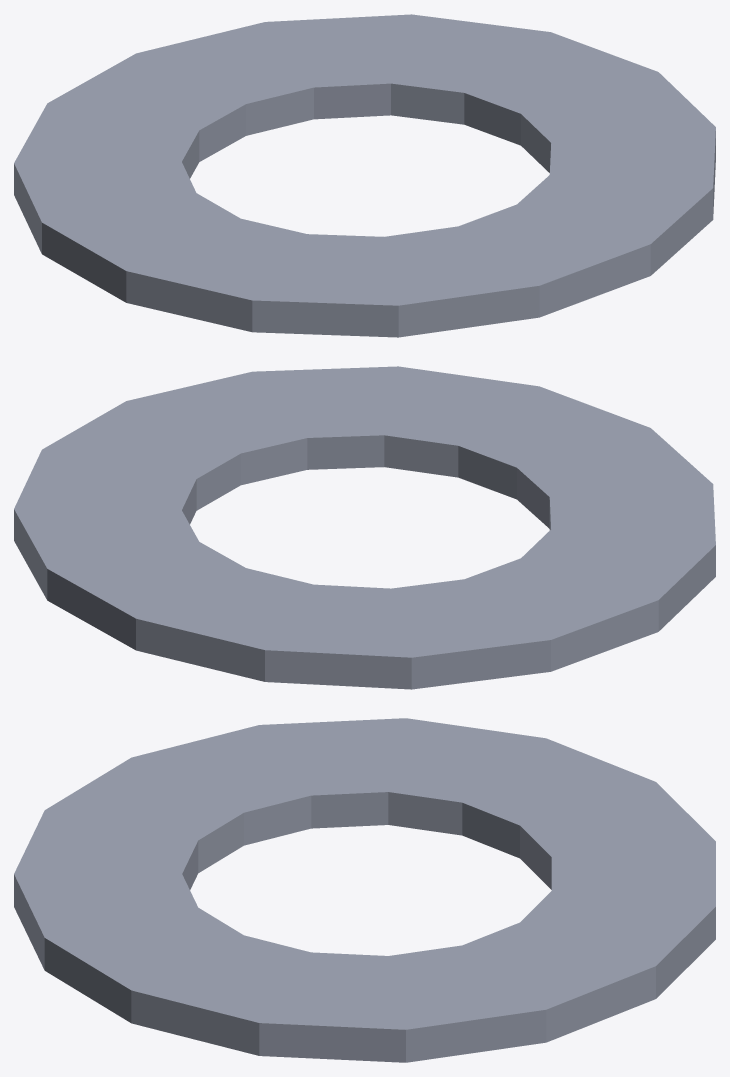
Rendered from Washer.glb.
The picture shows the model from 3 angles, top to bottom: view 1: azimuth 30°, elevation 25°; view 2: azimuth 150°, elevation 25°; view 3: azimuth 270°, elevation 25°; orthographic projection. The views are drawn at different scales.
Visible parts, largest first — view 1: Washer.036; view 2: Washer.036; view 3: Washer.036.
Boxes of the visible parts, x1,y1,x2,y2 form: Washer.036: [14, 14, 715, 337]; Washer.036: [14, 366, 715, 689]; Washer.036: [14, 718, 715, 1062].
Bounding box in the file's own units: 0.4282 × 0.0211 × 0.4076.
1 material, 1 textured.
